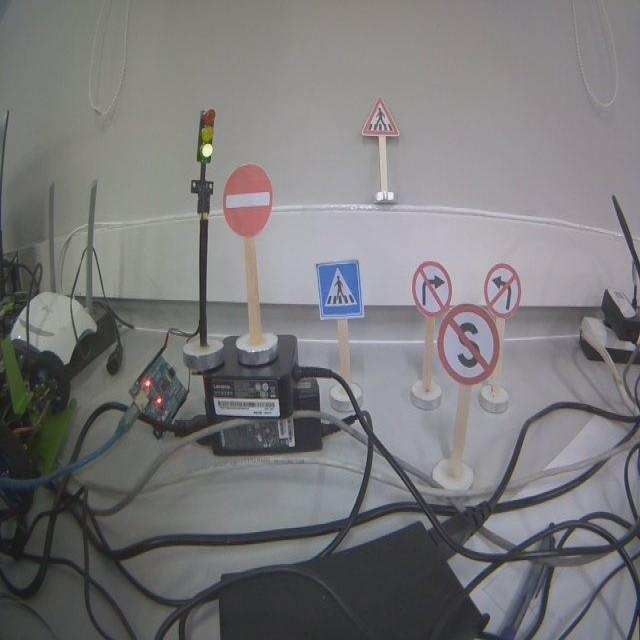Dilarang Belok Kanan: (413, 262, 451, 314)
Dilarang Belok Kiri: (483, 263, 521, 316)
Dilarang Masuk: (222, 164, 273, 239)
Lampu Hijau: (197, 106, 217, 164)
Rambu Berhenti: (438, 305, 497, 383)
Rambu Penyebrangan: (315, 257, 363, 319), (362, 97, 399, 136)
